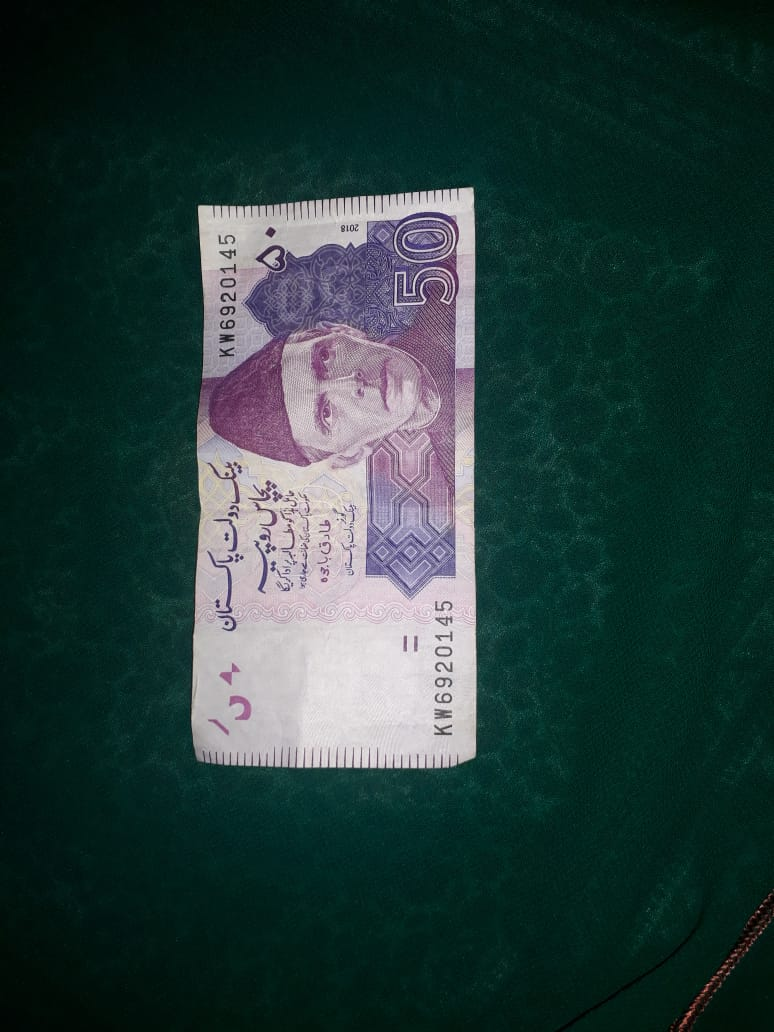50 rupee: (183, 171, 492, 782)
